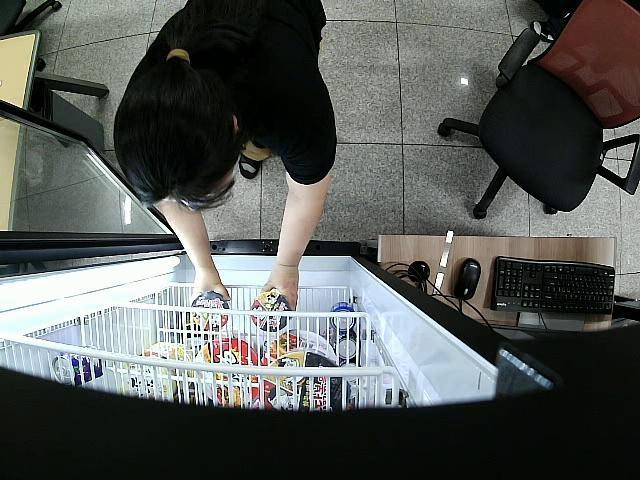08_buldak_S: (190, 292, 229, 332), (250, 292, 290, 330)
